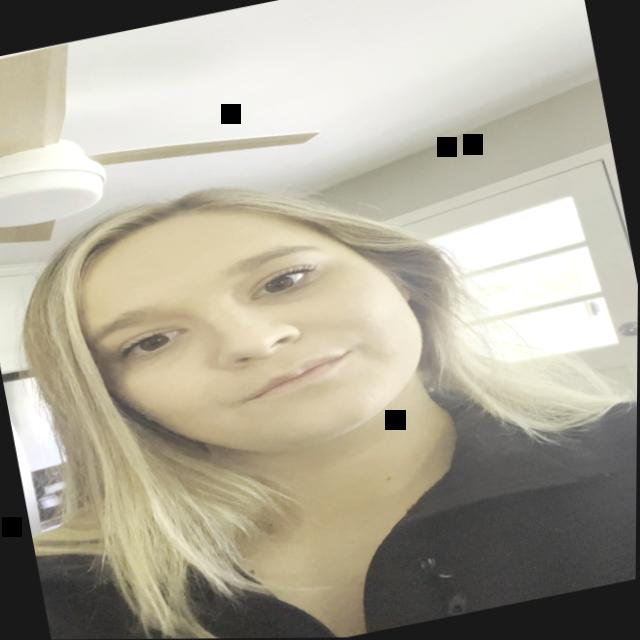NO-Mask: (53, 165, 467, 494)
